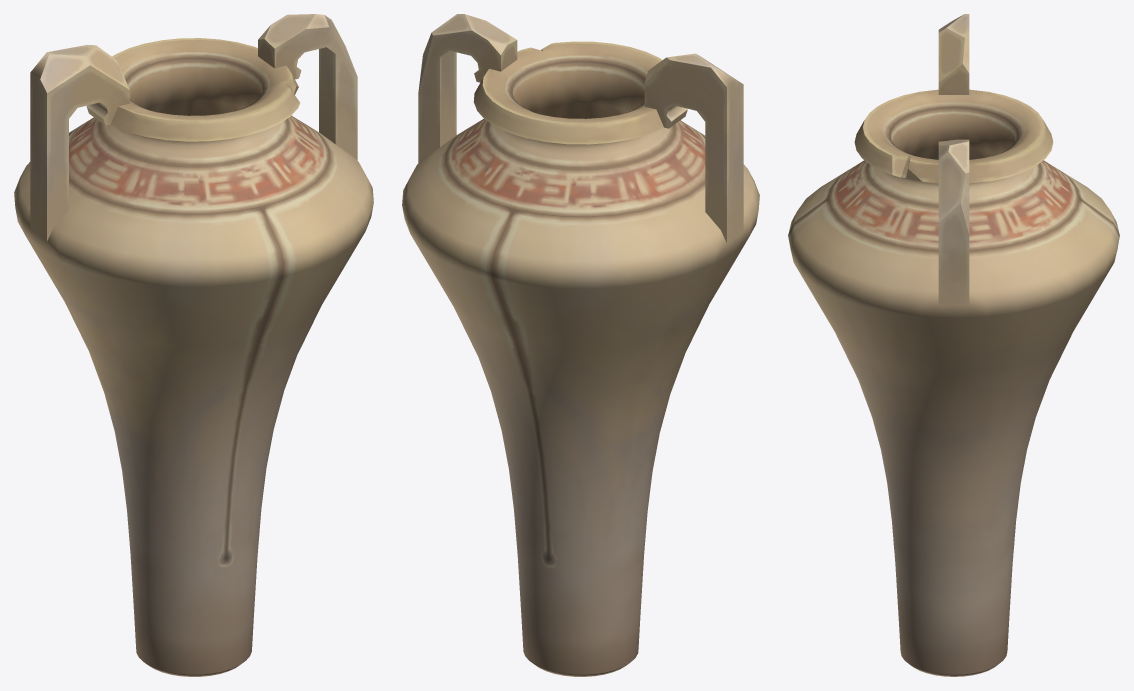
The model's file is SM_PROP_pot_02.fbx.
The picture shows the model from 3 angles, left to right: view 1: azimuth 30°, elevation 25°; view 2: azimuth 150°, elevation 25°; view 3: azimuth 270°, elevation 25°; orthographic projection. The views are drawn at different scales.
Parts seen in each view (by area): view 1: SM_PROP_pot_02_LOD0; view 2: SM_PROP_pot_02_LOD0; view 3: SM_PROP_pot_02_LOD0.
Boxes of the visible parts, x1,y1,x2,y2 form: SM_PROP_pot_02_LOD0: (14,14,373,676); SM_PROP_pot_02_LOD0: (402,14,759,676); SM_PROP_pot_02_LOD0: (788,14,1119,676).
Size of what is drawn, in the model's own units: 103 by 200 by 104.
